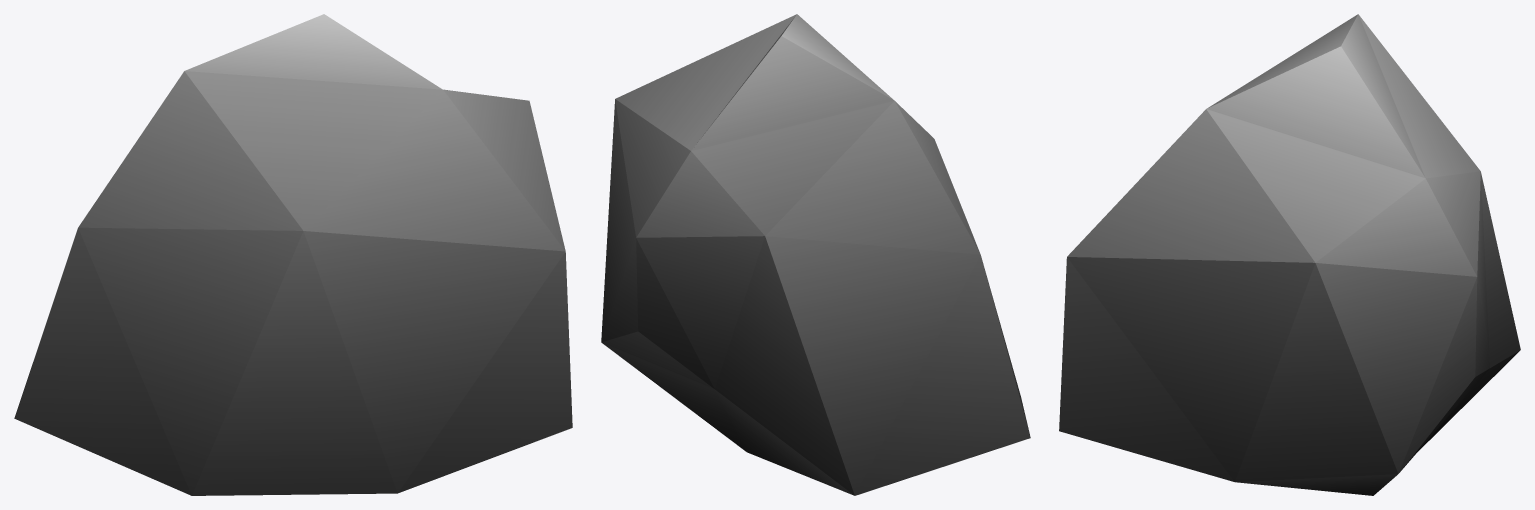
The model's file is Chunk2.FBX.
The picture shows the model from 3 angles, left to right: view 1: azimuth 30°, elevation 25°; view 2: azimuth 150°, elevation 25°; view 3: azimuth 270°, elevation 25°; orthographic projection. The views are drawn at different scales.
Parts seen in each view (by area): view 1: Chunk2; view 2: Chunk2; view 3: Chunk2.
Boxes of the visible parts, box(x1,y1,x2,y2) form: Chunk2: box(14, 14, 572, 495); Chunk2: box(601, 14, 1030, 495); Chunk2: box(1059, 14, 1520, 495).
Size of the model in its own units: 23.35 by 20.49 by 19.52.
